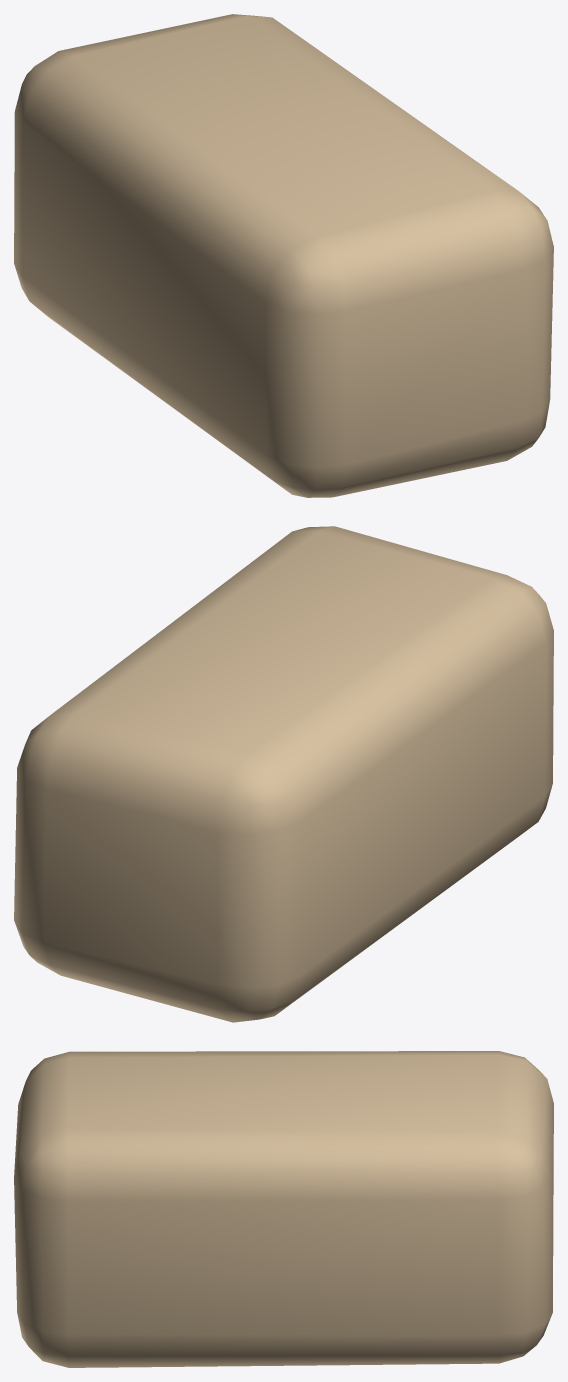
Rendered from MAUER_14.glb.
3 views of the same model, one above another, from view 1: azimuth 30°, elevation 25°; view 2: azimuth 150°, elevation 25°; view 3: azimuth 270°, elevation 25° (orthographic). The views are drawn at different scales.
Parts seen in each view (by area): view 1: MAUER_14; view 2: MAUER_14; view 3: MAUER_14.
Boxes of the visible parts, x1=… form: MAUER_14: x1=14, y1=14, x2=553, y2=497; MAUER_14: x1=14, y1=526, x2=553, y2=1022; MAUER_14: x1=14, y1=1051, x2=553, y2=1367.
Bounding box in the file's own units: 0.8081 × 0.7348 × 1.53.
